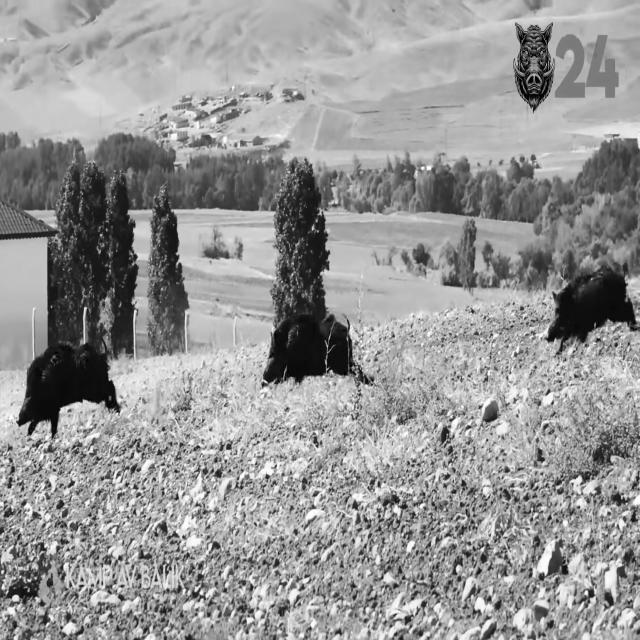boar: (17, 342, 119, 437), (548, 264, 637, 341), (262, 314, 352, 384)
